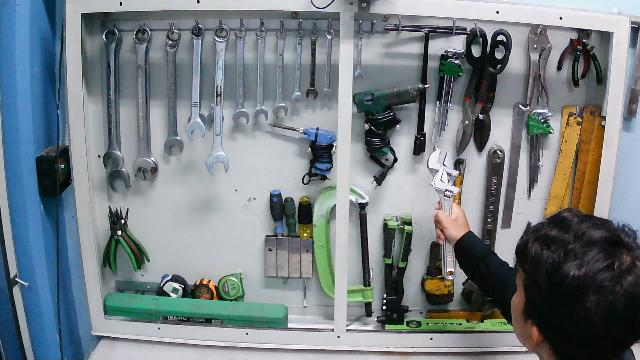kunci_inggris: (425, 147, 466, 283)
